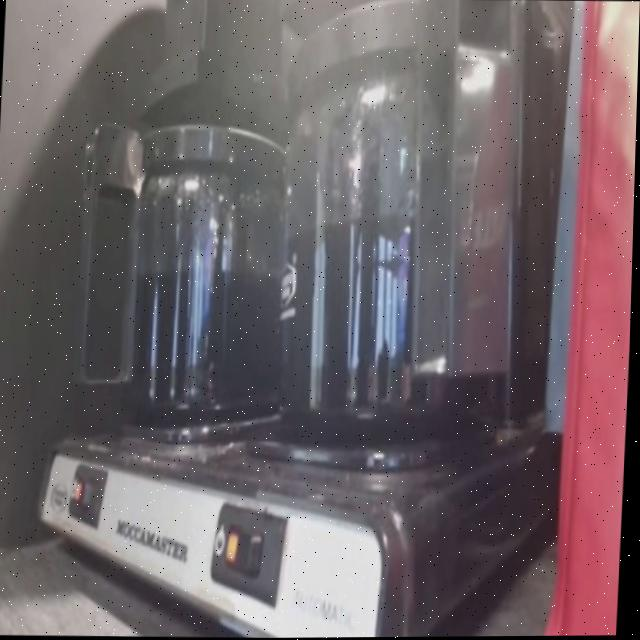coffee: (265, 0, 530, 469), (108, 105, 309, 441)
